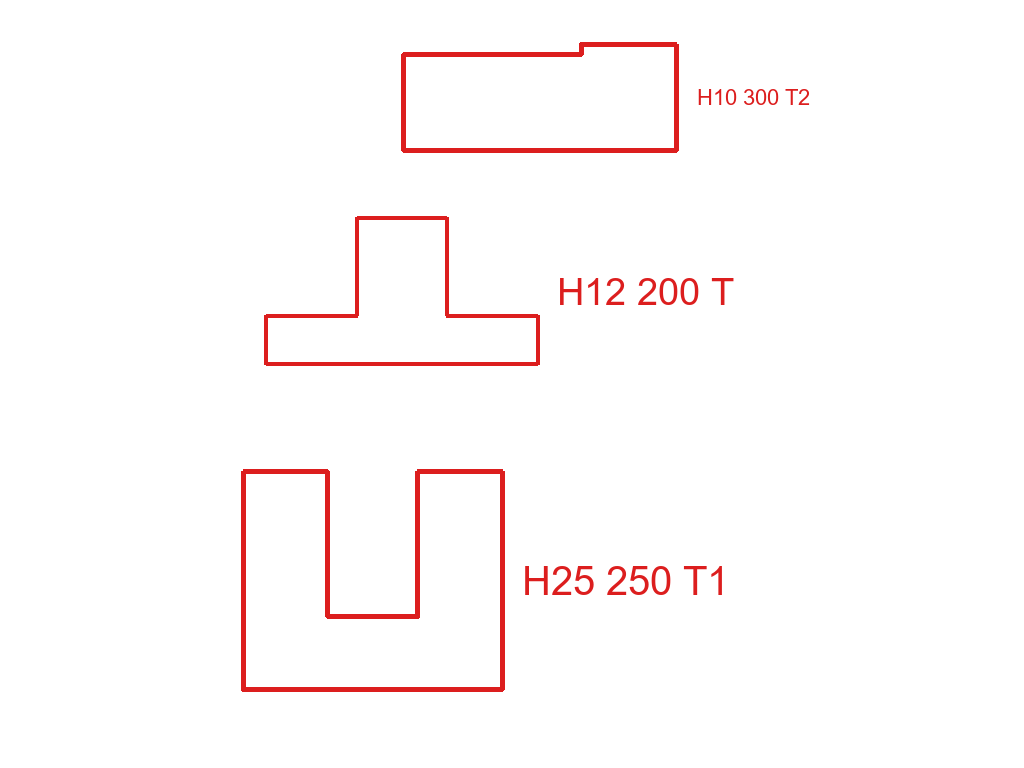shape: (239, 467, 507, 694), (262, 214, 541, 369), (399, 40, 681, 155)
text: (520, 564, 731, 597), (555, 276, 736, 307), (695, 87, 812, 107)
